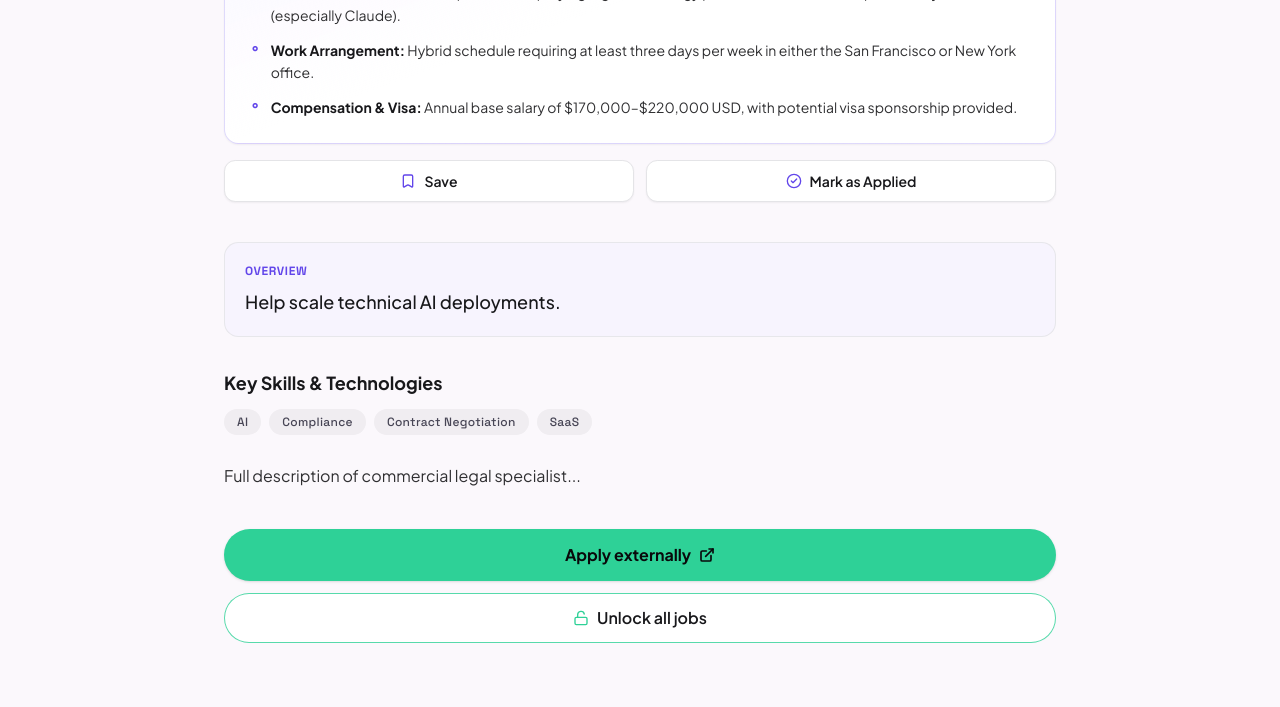
Test case: Spec 0005: Modal Sizing and Ellipsis Truncation › renders post-apply dialog with enlarged modal width and ellipsis on long job titles
(page scrolled)
Click apply to trigger dialog
What coordinates should you click on to do the following:
click the link with test id "primary-apply-button"
I would click on:
 (640, 555)
Its box is [224,529,1056,581].
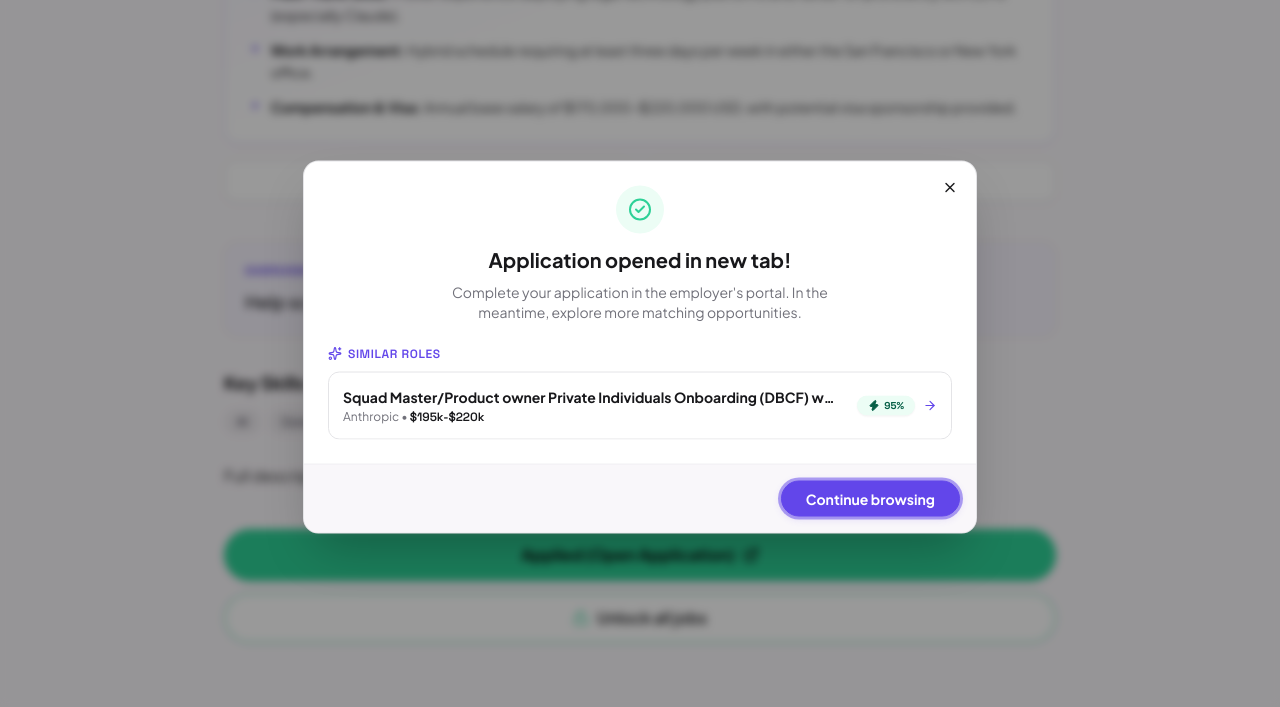
Expected: the dialog with test id "post-apply-dialog" is shown, [304,162,976,532]
Expected: the text titled "Squad Master/Product owner Private Individuals Onboarding (DBCF) with Extended Title Extra Words" is shown, [343,386,837,406]
